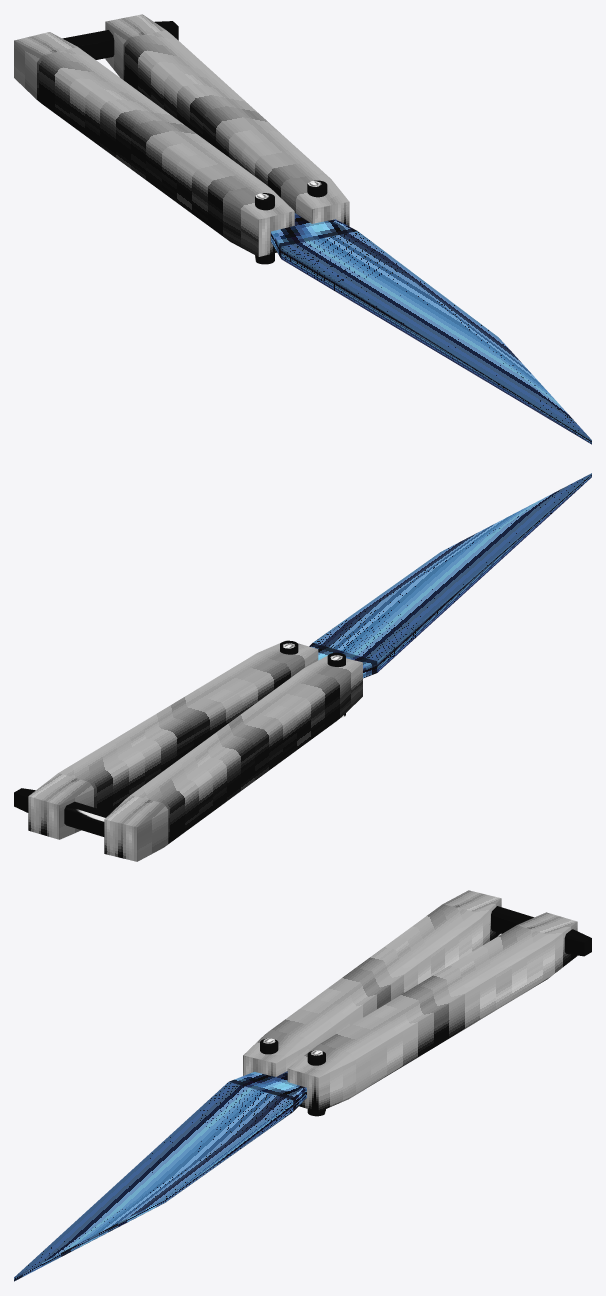
The model's file is mimita-spy-knife-v2.glb.
The picture shows the model from 3 angles, top to bottom: view 1: azimuth 30°, elevation 25°; view 2: azimuth 150°, elevation 25°; view 3: azimuth 330°, elevation 25°; orthographic projection. The views are drawn at different scales.
Visible parts, largest first — view 1: Cube.019; view 2: Cube.019; view 3: Cube.019.
Boxes of the visible parts, x1,y1,x2,y2 form: Cube.019: [14, 14, 591, 444]; Cube.019: [14, 473, 591, 861]; Cube.019: [14, 890, 591, 1281].
Size of the model in its own units: 0.5276 by 0.2094 by 3.23.
3 materials, 3 textured.
